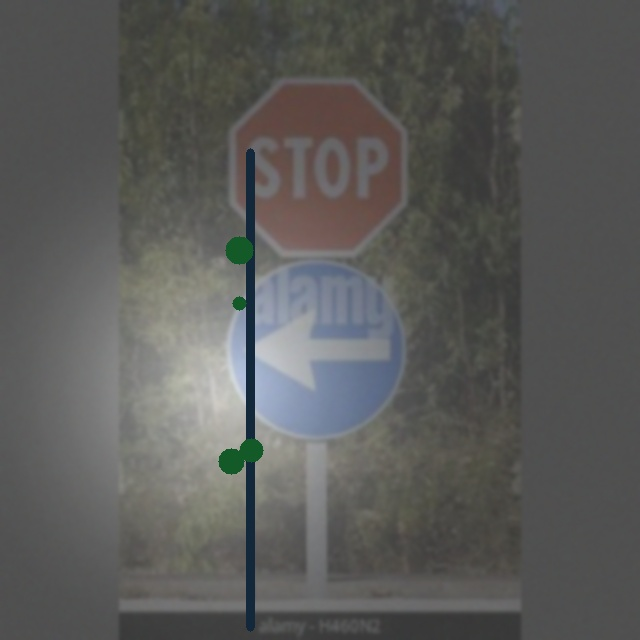Compulsory_Turn_Left: (235, 255, 409, 441)
